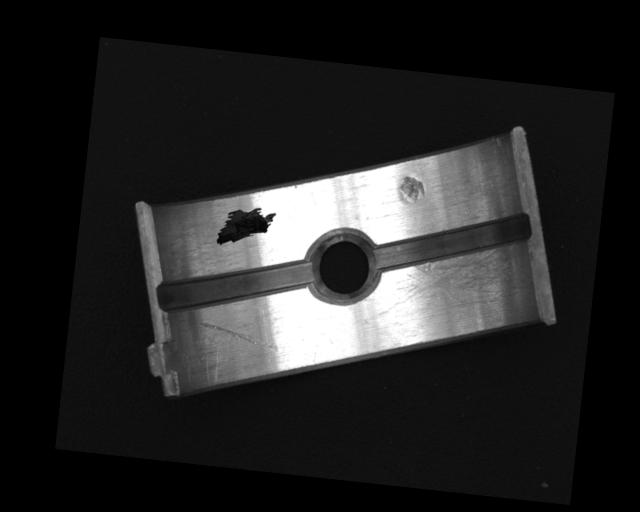blot: (215, 202, 278, 252)
bruise: (395, 174, 427, 208)
gap: (371, 199, 533, 287), (157, 245, 317, 327)
hole: (305, 230, 381, 305)
nick: (195, 319, 281, 352)
scratch: (378, 236, 533, 333)
